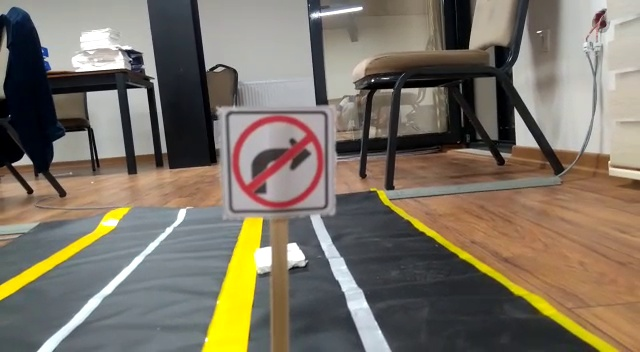saga_donulmez: (224, 107, 330, 210)
